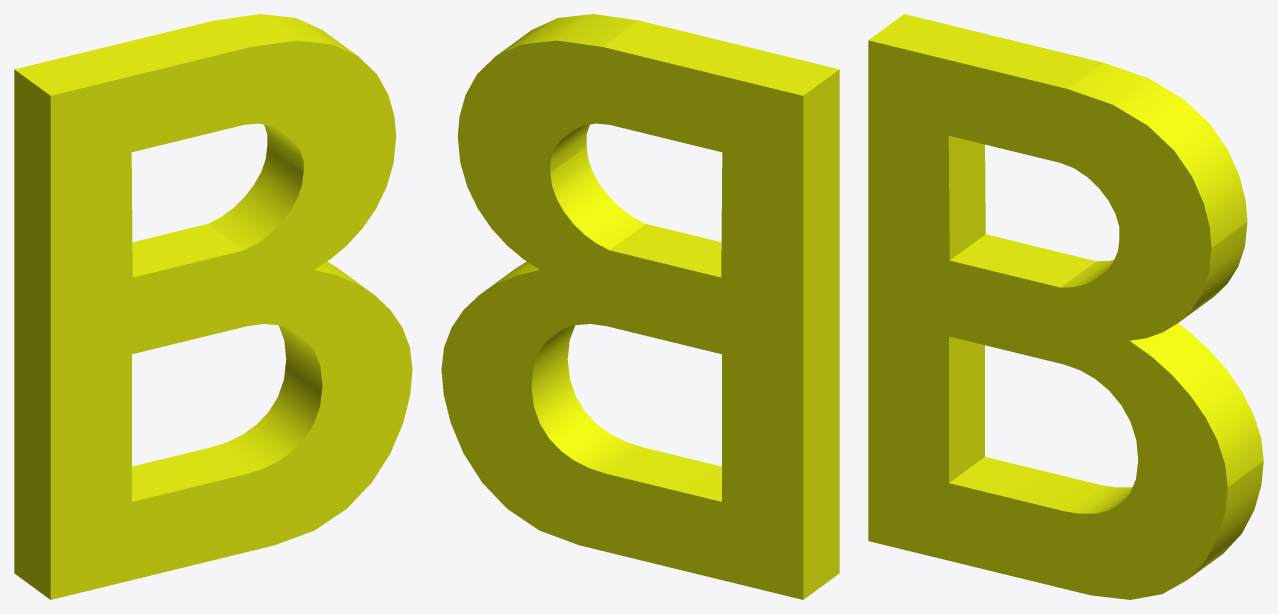
The model's file is B_icon.fbx.
3 views of the same model, side by side, from view 1: azimuth 30°, elevation 25°; view 2: azimuth 150°, elevation 25°; view 3: azimuth 330°, elevation 25° (orthographic).
Visible parts, largest first — view 1: Line001; view 2: Line001; view 3: Line001.
Boxes of the visible parts, <box> form: Line001: <box>14,14,412,599</box>; Line001: <box>441,14,839,599</box>; Line001: <box>868,14,1263,599</box>.
Bounding box in the file's own units: 45.37 × 7.87 × 60.39.
Materials: 1 (1 with a texture image).
